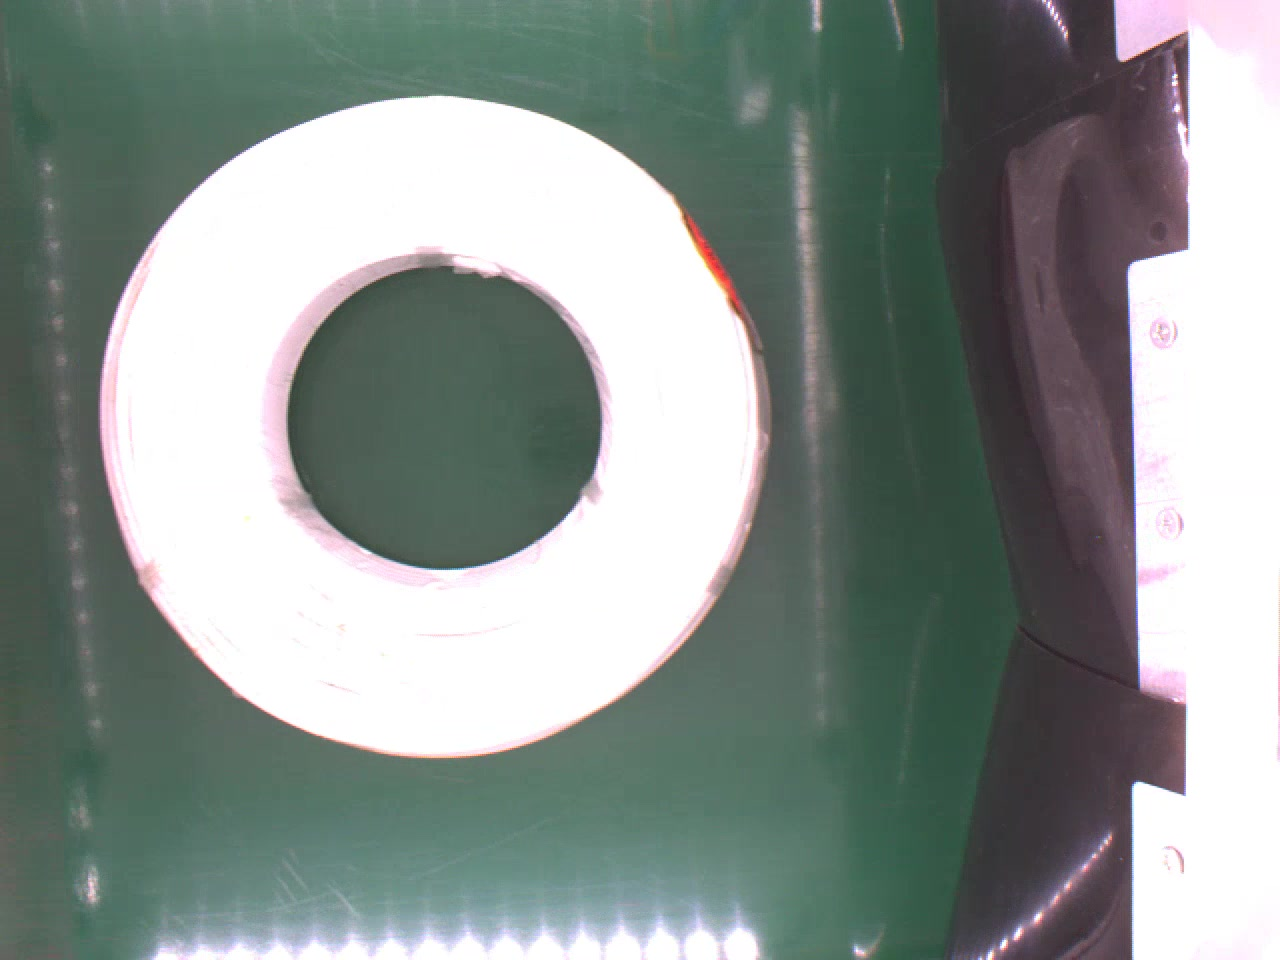white: (94, 94, 785, 769)
